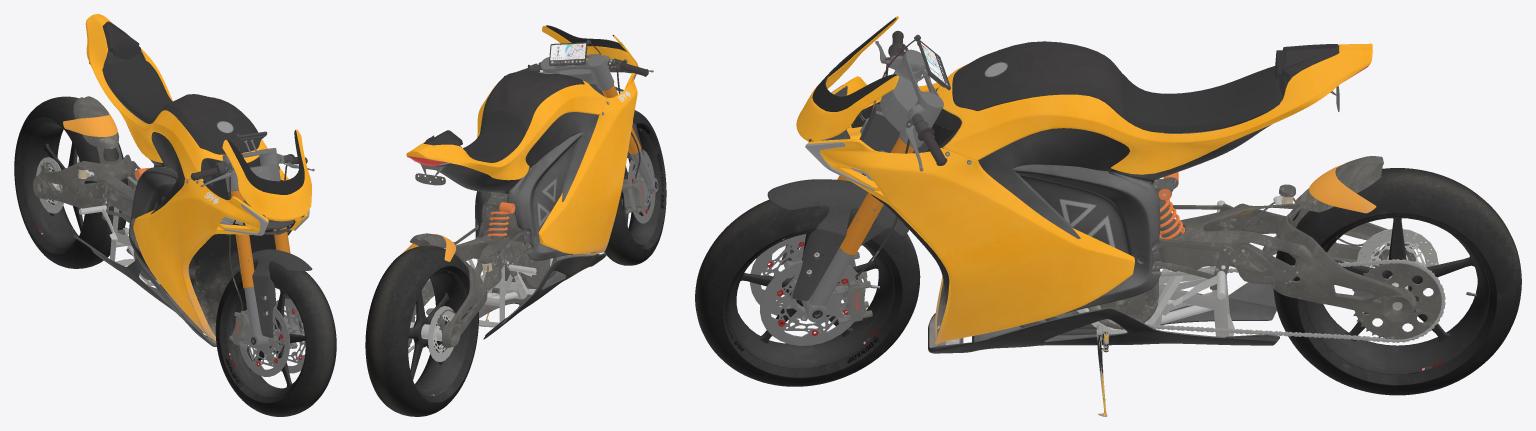
Rendered from motorbike.optimized.glb.
3 renders of one model, left to right at view 1: azimuth 30°, elevation 25°; view 2: azimuth 150°, elevation 25°; view 3: azimuth 270°, elevation 25°, orthographic. The views are drawn at different scales.
Visible parts, largest first — view 1: Object_22, Object_25, Object_2, Object_21, Object_20, Object_23, Object_18, Object_11, Object_17, Object_10, Object_15, Object_4 (+5 smaller); view 2: Object_2, Object_22, Object_23, Object_21, Object_25, Object_4, Object_18, Object_11, Object_7, Object_10, Object_20, Object_19 (+6 smaller); view 3: Object_22, Object_21, Object_2, Object_25, Object_23, Object_11, Object_24, Object_18, Object_17, Object_20, Object_10, Object_4 (+7 smaller).
Part boxes in pixels (x1,y1,x2,y2): Object_22: [85, 14, 280, 187]; Object_25: [215, 260, 336, 416]; Object_2: [14, 96, 127, 268]; Object_21: [133, 168, 307, 340]; Object_20: [188, 129, 311, 335]; Object_23: [72, 78, 216, 346]; Object_18: [186, 133, 307, 336]; Object_11: [47, 96, 140, 222]; Object_17: [200, 162, 314, 358]; Object_10: [38, 154, 138, 208]; Object_15: [224, 133, 304, 376]; Object_4: [40, 163, 177, 280]; Object_2: [365, 245, 478, 416]; Object_22: [406, 71, 607, 180]; Object_23: [426, 112, 606, 339]; Object_21: [485, 73, 637, 321]; Object_25: [604, 110, 666, 265]; Object_4: [407, 156, 550, 353]; Object_18: [504, 43, 653, 186]; Object_11: [402, 157, 517, 315]; Object_7: [476, 146, 557, 306]; Object_10: [414, 260, 487, 335]; Object_20: [542, 25, 638, 253]; Object_19: [549, 42, 648, 212]; Object_22: [934, 41, 1372, 174]; Object_21: [807, 76, 1134, 416]; Object_2: [1273, 168, 1521, 395]; Object_25: [695, 199, 920, 386]; Object_23: [928, 65, 1312, 353]; Object_11: [1157, 156, 1415, 342]; Object_24: [1013, 164, 1161, 313]; Object_18: [796, 30, 971, 306]; Object_17: [767, 41, 923, 320]; Object_20: [796, 16, 1108, 352]; Object_10: [1262, 206, 1405, 317]; Object_4: [1088, 64, 1425, 352].
Bounding box in the file's own units: 0.6104 × 1.19 × 2.32.
7 materials, 7 textured.
